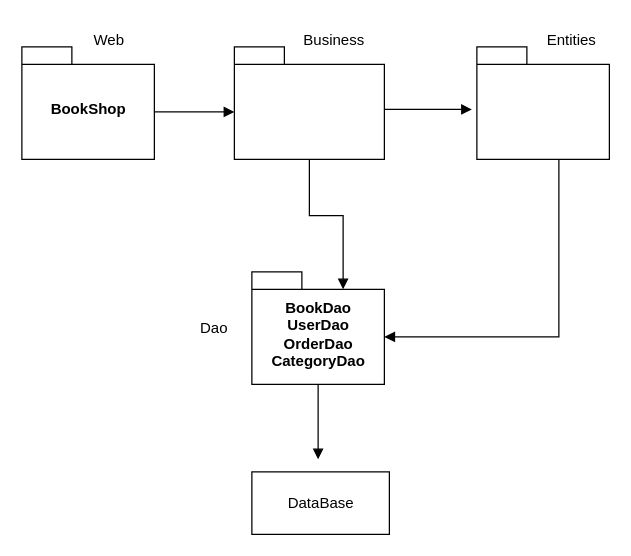
The diagram is 631 pixels wide and 556 high, and some of its shapes have lost their labels. The shapes that lost their labels are listed below. From the top down, each one's box as (x1, y1, x2, y2) in pixels, then its label:
(233, 46, 384, 159): Interface Implementation
(476, 46, 609, 159): User Book Order Category
